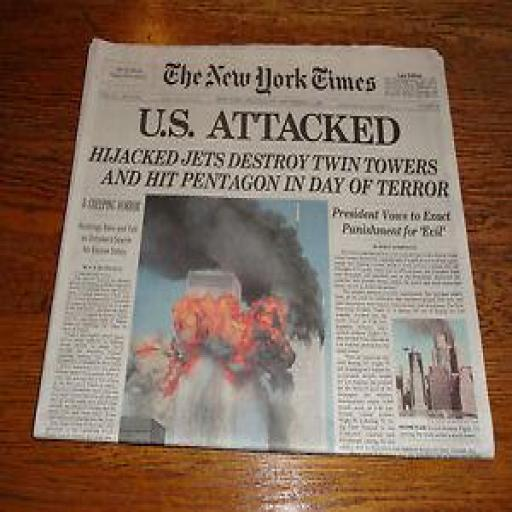paper: (31, 36, 496, 461)
